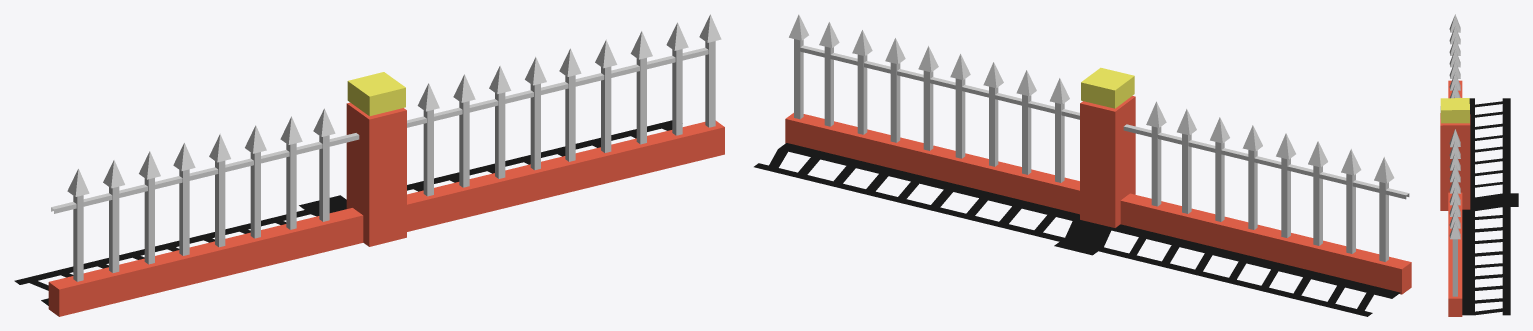
File: langan_01.FBX
The picture shows the model from 3 angles, left to right: view 1: azimuth 30°, elevation 25°; view 2: azimuth 150°, elevation 25°; view 3: azimuth 270°, elevation 25°; orthographic projection. The views are drawn at different scales.
Visible parts, largest first — view 1: langan_01; view 2: langan_01; view 3: langan_01.
Boxes of the visible parts, x1,y1,x2,y2 form: langan_01: (14,14,724,316); langan_01: (754,14,1411,316); langan_01: (1440,14,1518,316).
Size of the model in its own units: 5330 by 1146 by 811.
